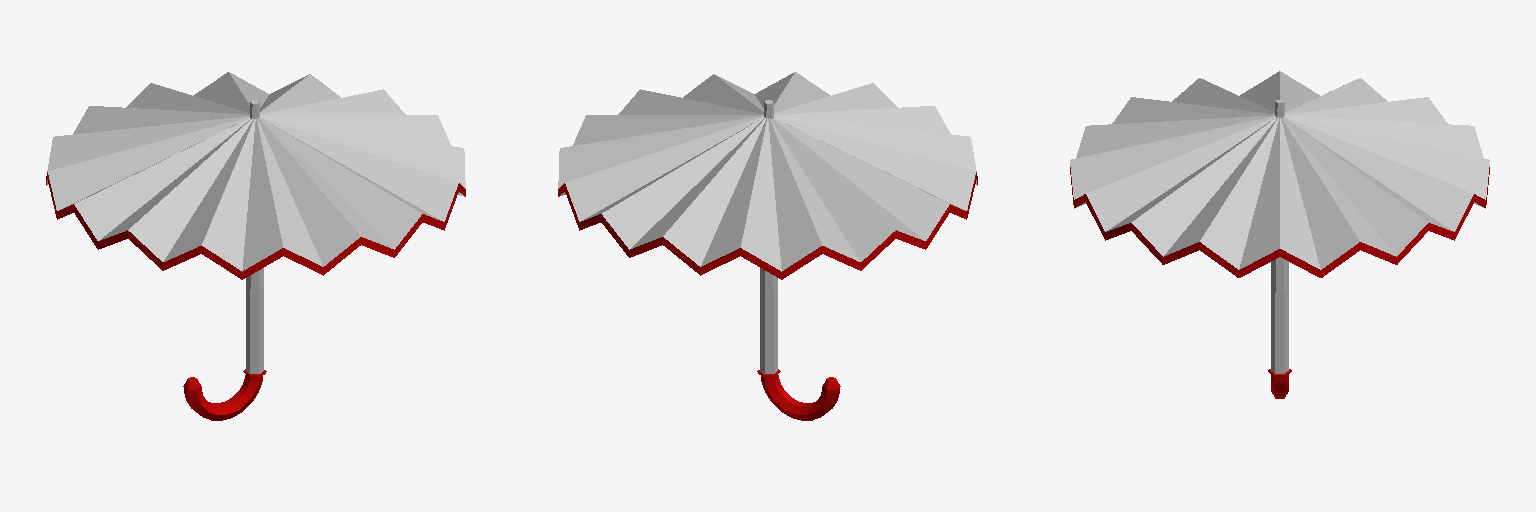
The model's file is umbrella.obj.
3 views of the same model, side by side, from view 1: azimuth 30°, elevation 25°; view 2: azimuth 150°, elevation 25°; view 3: azimuth 270°, elevation 25° (orthographic).
Visible parts, largest first — view 1: top.001_Plane.004; view 2: top.001_Plane.004; view 3: top.001_Plane.004.
Part boxes in pixels (bbox=[...]): top.001_Plane.004: bbox=[46, 72, 465, 420]; top.001_Plane.004: bbox=[558, 72, 977, 420]; top.001_Plane.004: bbox=[1070, 71, 1489, 398].
Bounding box in the file's own units: 4.08 × 3.3 × 4.08.